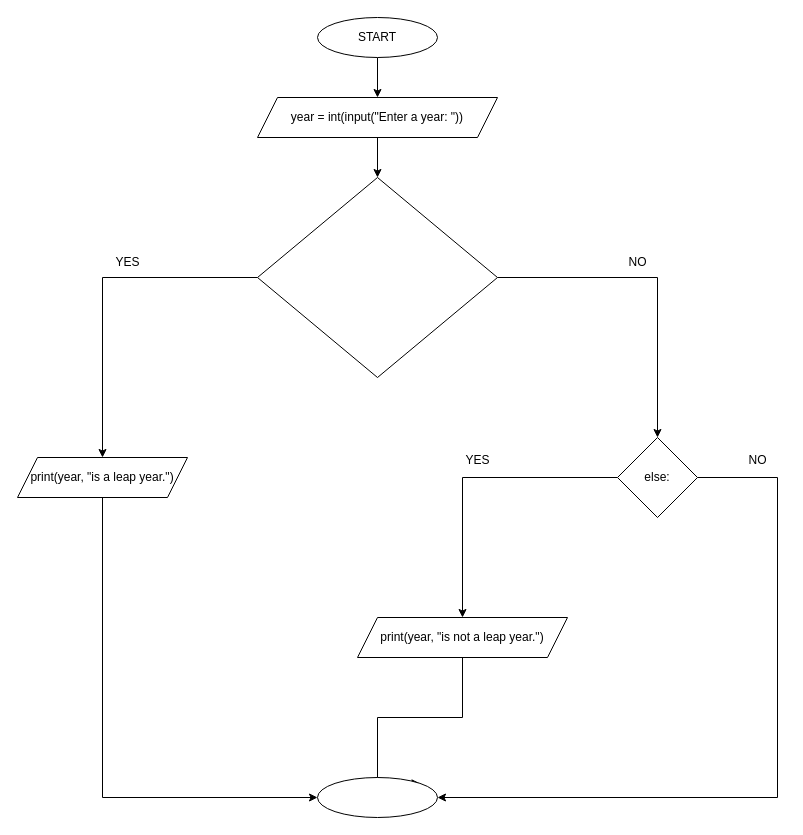
This 803x835 diagram has some shape labels left out. Each missing label, with the box of its shape:
if year % 4 == 0 and (year % 100 != 0 or year % 400 == 0):: (256, 176, 498, 378)
STOP: (316, 776, 438, 818)
